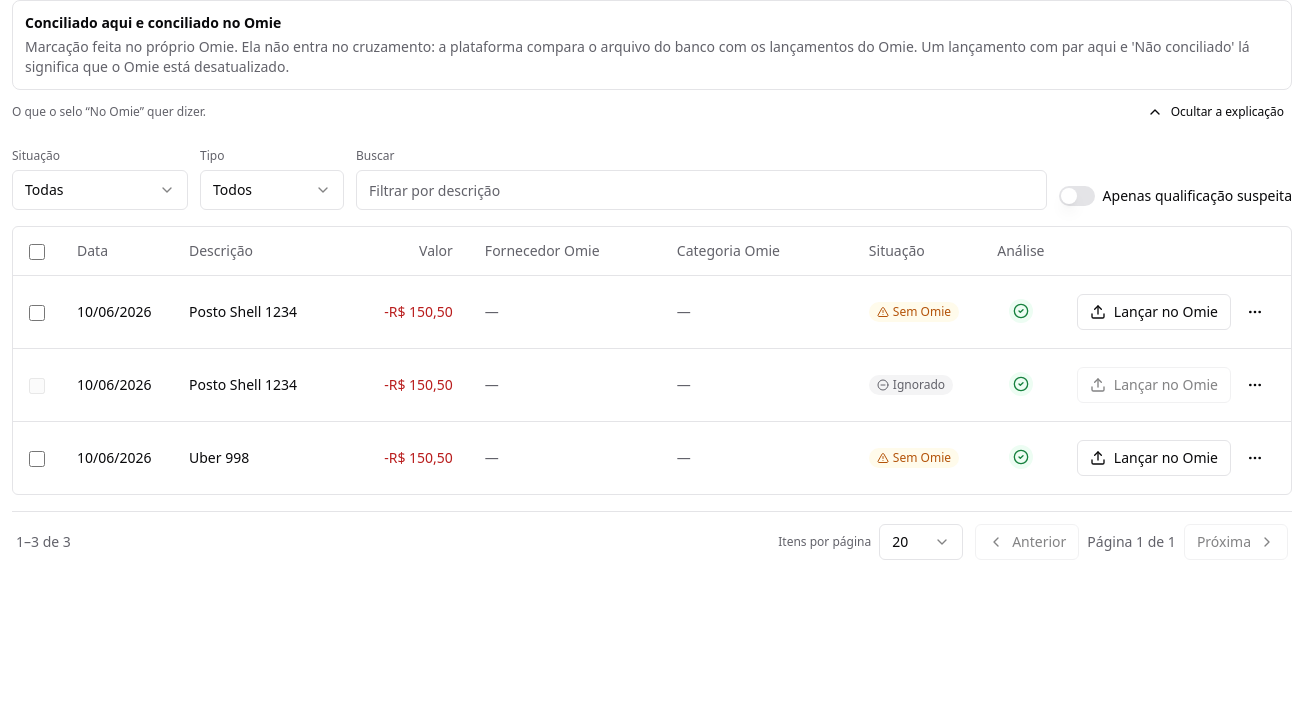
Scenario: Aba de Movimentações — cartão › "selecionar todos da página" marca só as elegíveis
What coordinates should you click on to do the following:
click the checkbox named "Selecionar todas as compras desta página"
I would click on:
 (37, 252)
Its box is top-left (29, 244), bottom-right (45, 260).
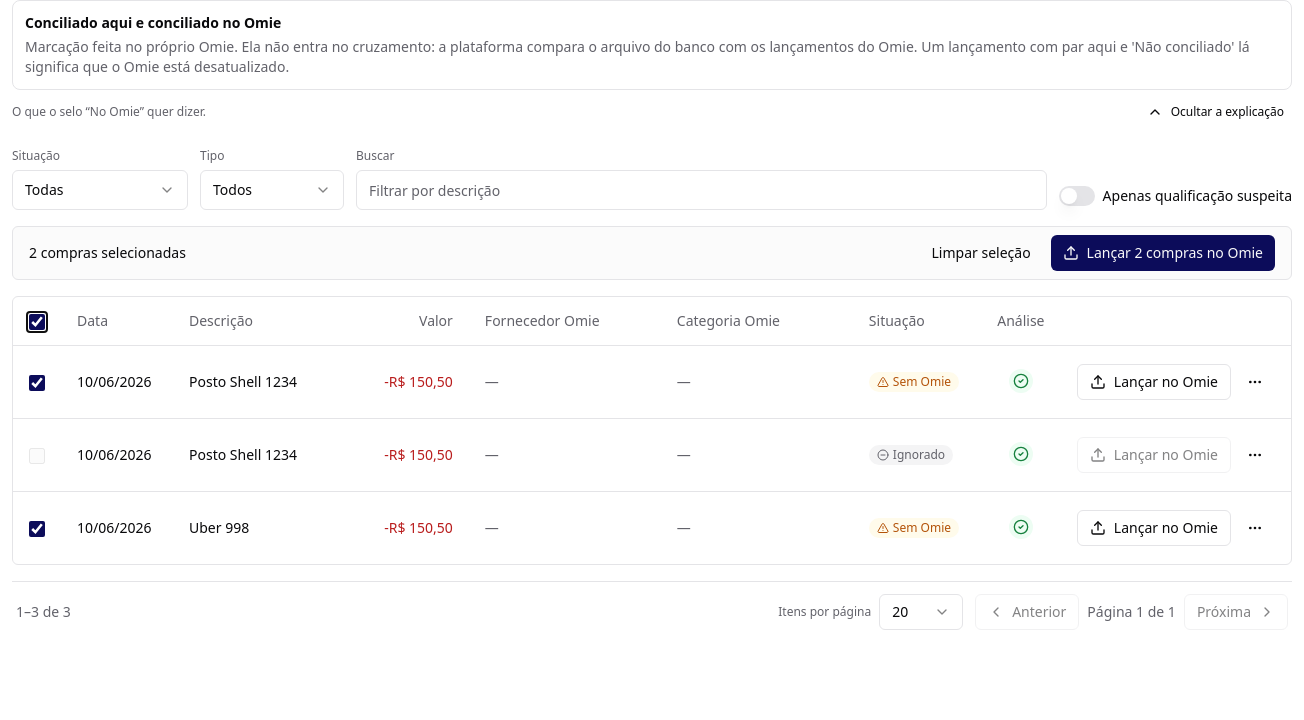
Expected: the button "Lançar 2 compras no Omie" is enabled, top-left (1051, 235), bottom-right (1275, 271)
